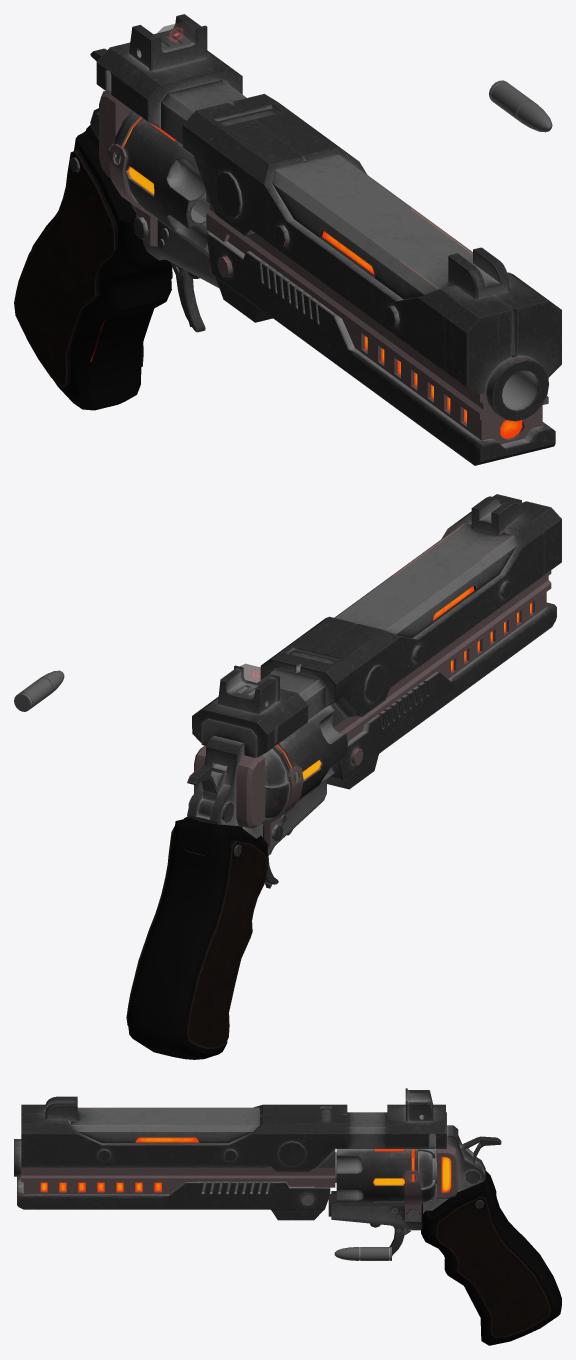
Rendered from scifi_gun_lowpoly.glb.
3 renders of one model, top to bottom at view 1: azimuth 30°, elevation 25°; view 2: azimuth 150°, elevation 25°; view 3: azimuth 270°, elevation 25°, orthographic. The views are drawn at different scales.
Parts seen in each view (by area): view 1: Object_2, Object_3; view 2: Object_2, Object_3; view 3: Object_2, Object_3.
Boxes of the visible parts, left/top/right/bottom form: Object_2: left=14, top=14, right=561, bottom=465; Object_3: left=489, top=80, right=552, bottom=132; Object_2: left=126, top=494, right=561, bottom=1059; Object_3: left=14, top=670, right=64, bottom=711; Object_2: left=14, top=1088, right=561, bottom=1345; Object_3: left=334, top=1247, right=391, bottom=1260.
Bounding box in the file's own units: 119 × 132 × 262.
2 materials, 2 textured.
